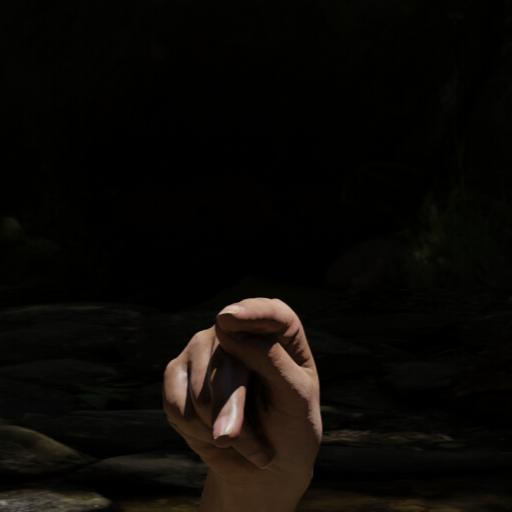P: (152, 288, 340, 496)
